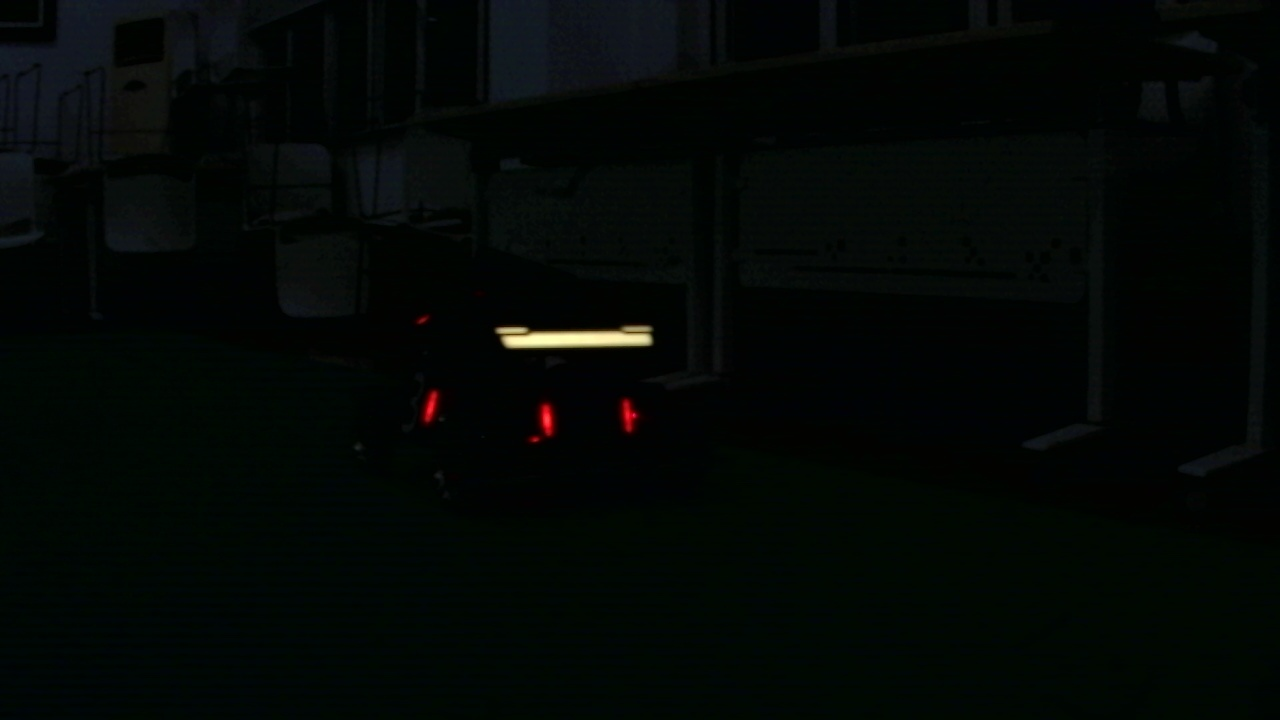lamp: (619, 396, 638, 435), (423, 387, 437, 428), (540, 402, 555, 440)
pair1: (539, 400, 637, 433)
